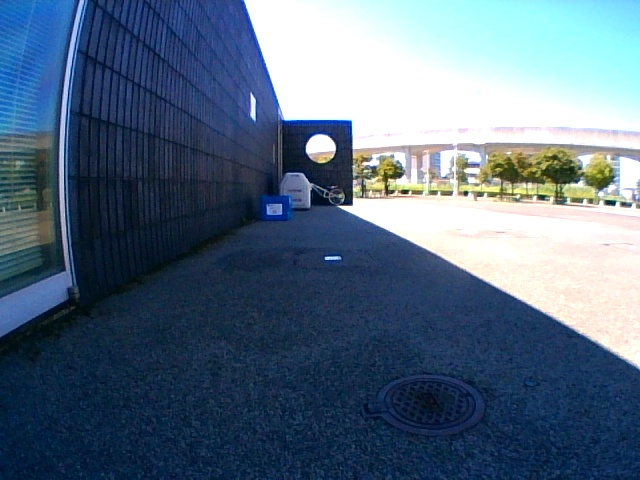blue_box: (262, 195, 290, 220)
tag: (268, 204, 281, 215)
